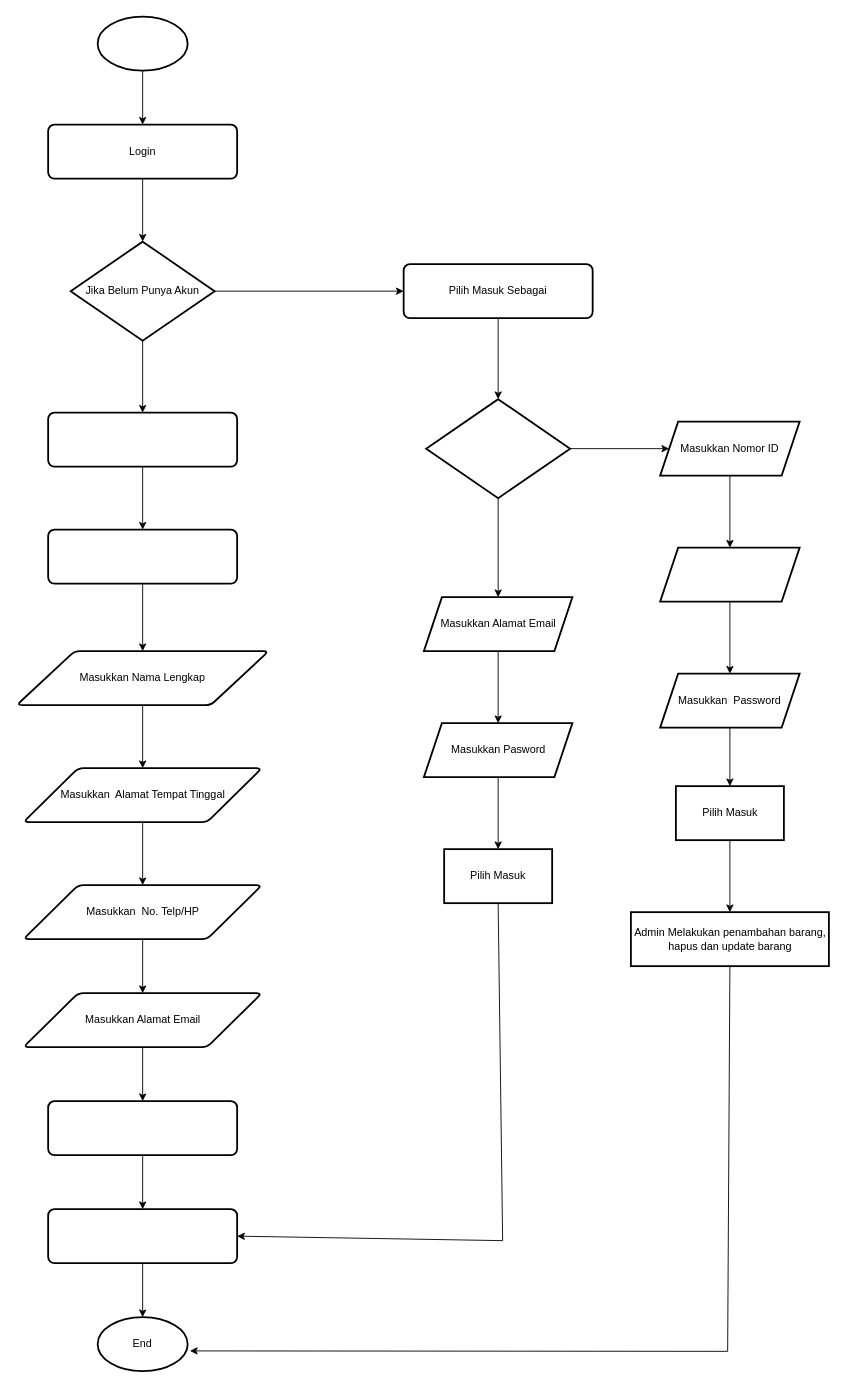
The diagram is 845 pixels wide and 1387 high, and some of its shapes have lost their labels. The shapes that lost their labels are listed below. From the top down, each one's centre as x and y in pixels, then its label:
(x=142, y=43): Start
(x=142, y=439): Pilih daftar pada belum punya akun
(x=498, y=448): Jika Sebagai Konsumen
(x=142, y=556): Pilih daftar sebagai konsumen
(x=729, y=574): Masukkan email
(x=142, y=1128): Akun Telah Terdaftar
(x=142, y=1236): User Melakukan Pencarian Barang
